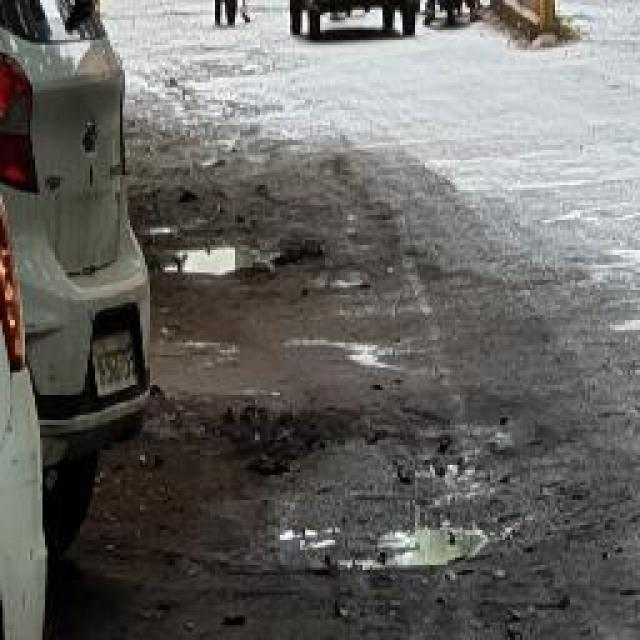stagnation: (147, 232, 277, 274)
